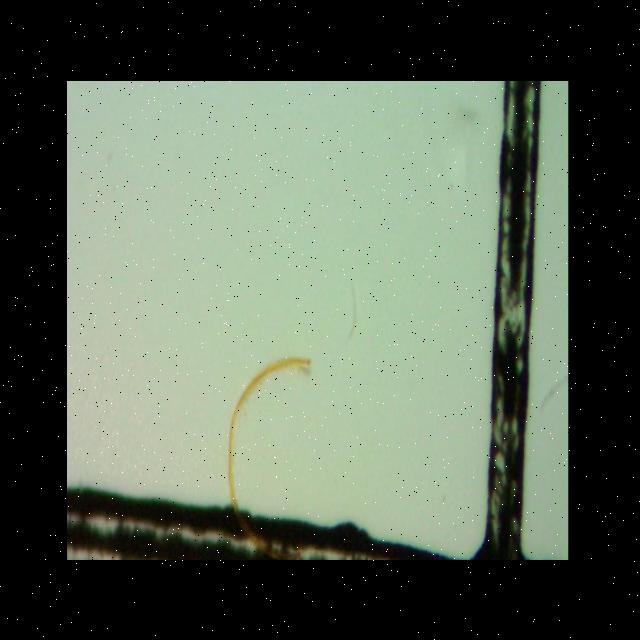Fibre: (67, 80, 567, 560), (222, 344, 312, 560)
